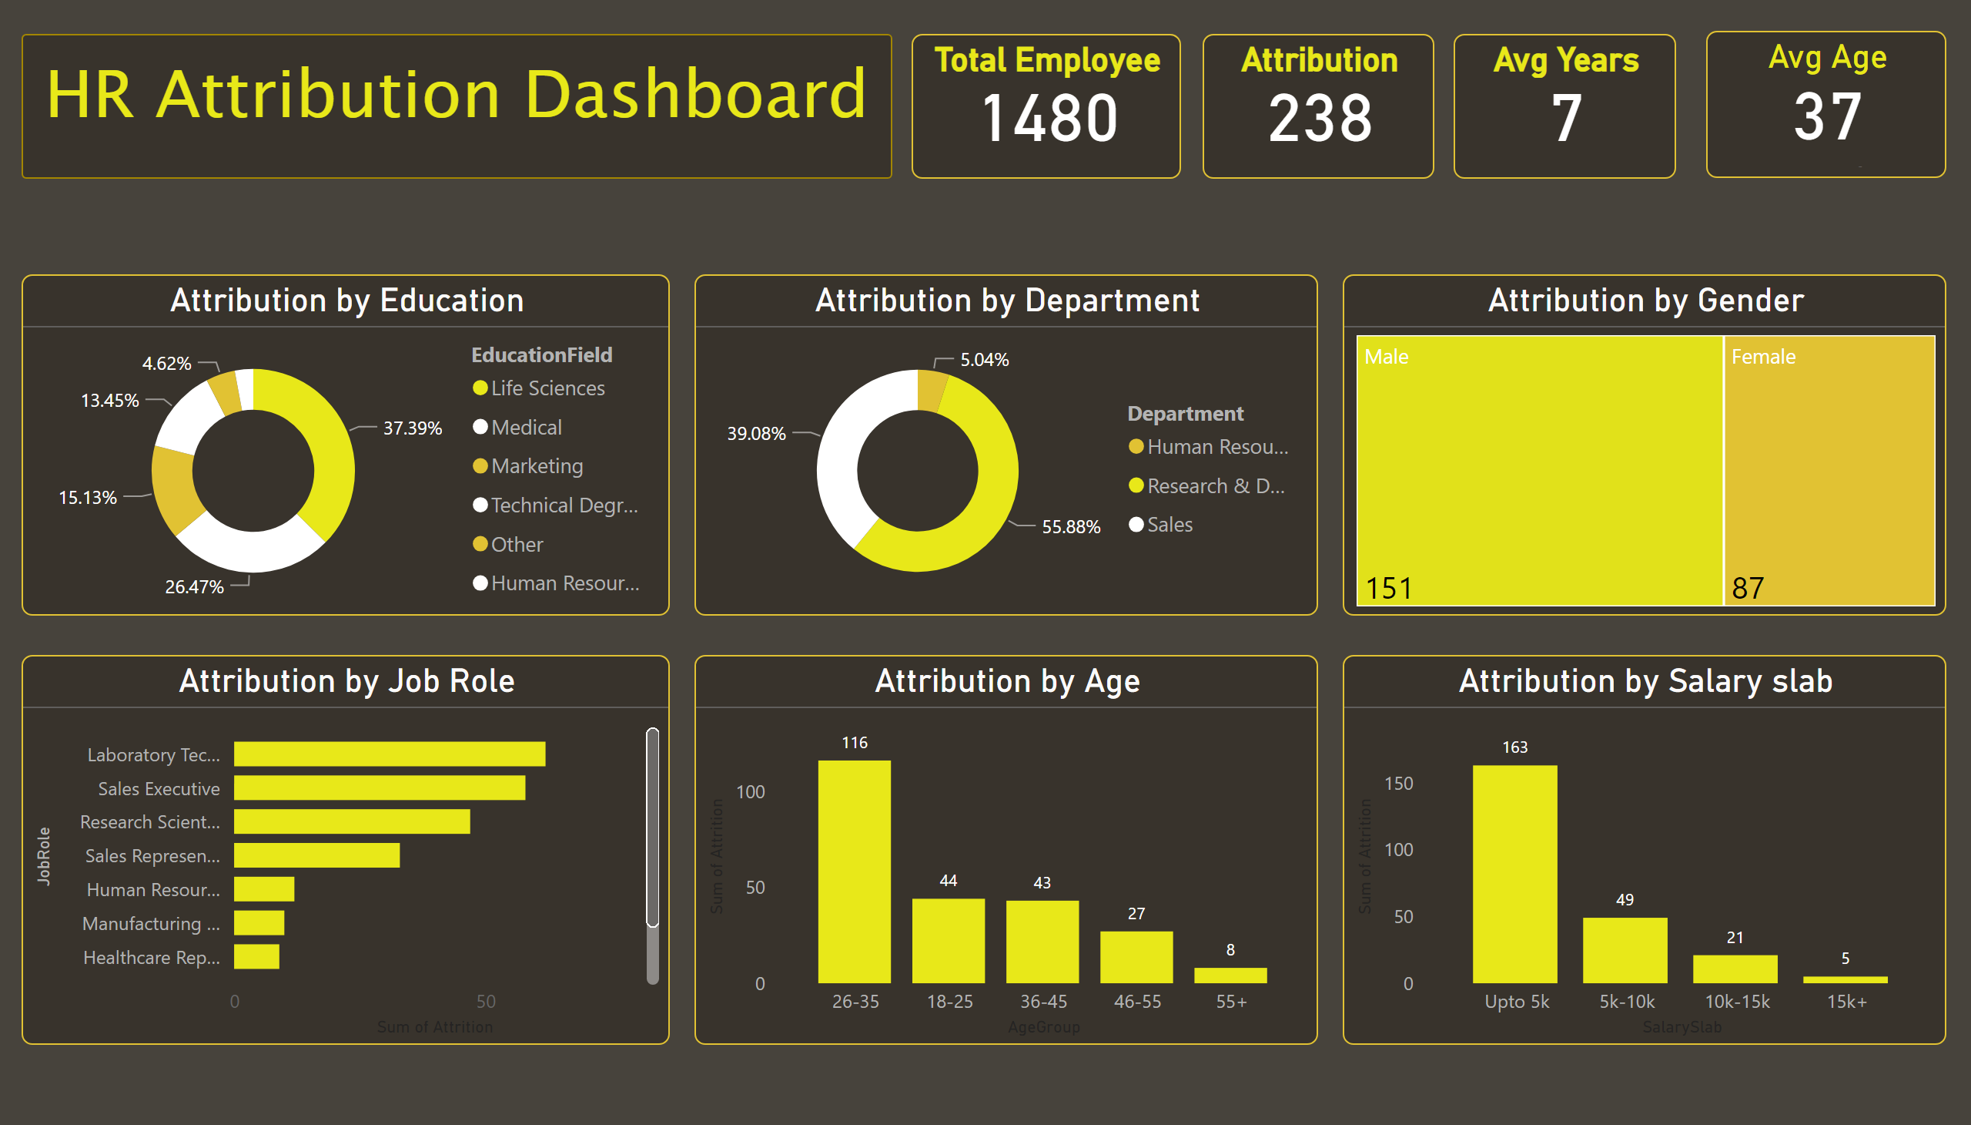

What the dashboard file says about the page in this screenshot:
{"tool":"powerbi","page":{"name":"Page 1","canvas":[1280,720],"ordinal":0},"visuals":[{"type":"card","title":"Avg Age","fields":{"Values":["Avg(HR_Analytics.Age)"]},"box":[1107.9,20.2,156.2,95.5],"z":0},{"type":"card","title":"Total Employee","fields":{"Values":["Sum(HR_Analytics.EmployeeCount)"]},"box":[591.5,21.7,175,94],"z":1000},{"type":"card","title":"Attribution","fields":{"Values":["Sum(HR_Analytics.Attrition)"]},"box":[781,21.7,150.4,94],"z":2000},{"type":"card","title":"Avg Years","fields":{"Values":["Avg(HR_Analytics.YearsAtCompany)"]},"box":[944.5,21.7,144.6,94],"z":3000},{"type":"treemap","title":"Attribution by Gender","fields":{"Values":["Sum(HR_Analytics.Attrition)"],"Group":["HR_Analytics.Gender"]},"box":[872.1,177.9,392,221.3],"z":4000},{"type":"donutChart","title":"Attribution by Education","fields":{"Y":["Sum(HR_Analytics.Attrition)"],"Category":["HR_Analytics.EducationField"]},"box":[14.5,177.9,420.9,221.3],"z":5000},{"type":"clusteredColumnChart","title":"Attribution by Age ","fields":{"Category":["HR_Analytics.AgeGroup"],"Y":["Sum(HR_Analytics.Attrition)"]},"box":[451.3,425.2,405,253.1],"z":6000},{"type":"clusteredBarChart","title":"Attribution by Job Role","fields":{"Y":["Sum(HR_Analytics.Attrition)"],"Category":["HR_Analytics.JobRole"]},"box":[14.5,425.2,420.9,253.1],"z":7000},{"type":"donutChart","title":"Attribution by Department","fields":{"Y":["Sum(HR_Analytics.Attrition)"],"Series":["HR_Analytics.Department"]},"box":[451.3,177.9,405,221.3],"z":8000},{"type":"clusteredColumnChart","title":"Attribution by Salary slab","fields":{"Category":["HR_Analytics.SalarySlab"],"Y":["Sum(HR_Analytics.Attrition)"]},"box":[872.1,425.2,392,253.1],"z":9000},{"type":"textbox","box":[14.5,21.7,565.5,94],"z":10000}]}

Visuals, with their boxes in screenshot pixels (x1, y1, x2, y2), scaled from the page's 1280x720 canvas onto the 1971x1125 screenshot:
"Avg Age" card: locate(1706, 32, 1947, 181)
"Total Employee" card: locate(911, 34, 1180, 181)
"Attribution" card: locate(1203, 34, 1434, 181)
"Avg Years" card: locate(1454, 34, 1677, 181)
"Attribution by Gender" treemap: locate(1343, 278, 1947, 624)
"Attribution by Education" donutChart: locate(22, 278, 670, 624)
"Attribution by Age " clusteredColumnChart: locate(695, 664, 1319, 1060)
"Attribution by Job Role" clusteredBarChart: locate(22, 664, 670, 1060)
"Attribution by Department" donutChart: locate(695, 278, 1319, 624)
"Attribution by Salary slab" clusteredColumnChart: locate(1343, 664, 1947, 1060)
textbox: locate(22, 34, 893, 181)
